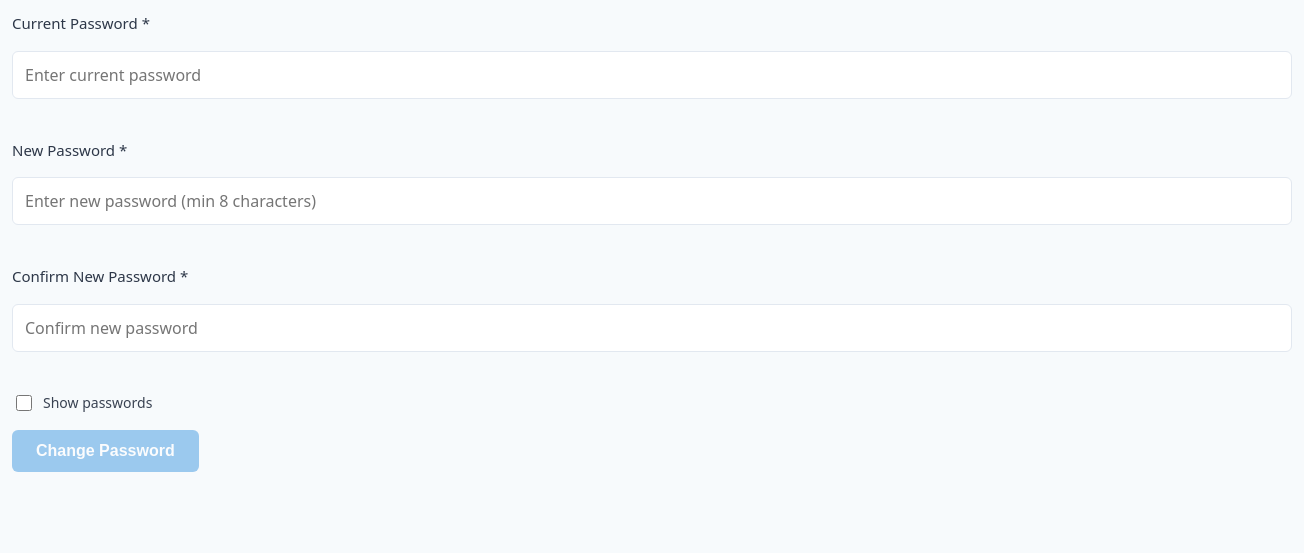
Test: PasswordChangeForm Component › should show error when new password is same as old
Type "same123456" into the password field labelled "Current Password *". click: (652, 74)
box: [12, 50, 1292, 98]
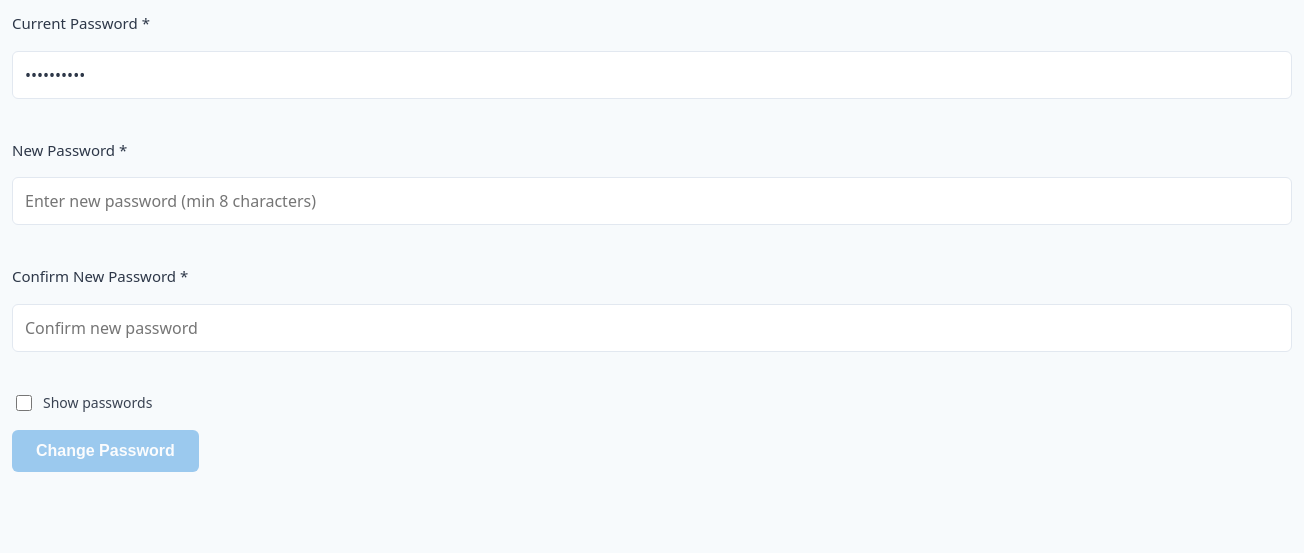
Type "same123456" into the password field labelled "New Password *". click: (652, 201)
box: [12, 177, 1292, 225]
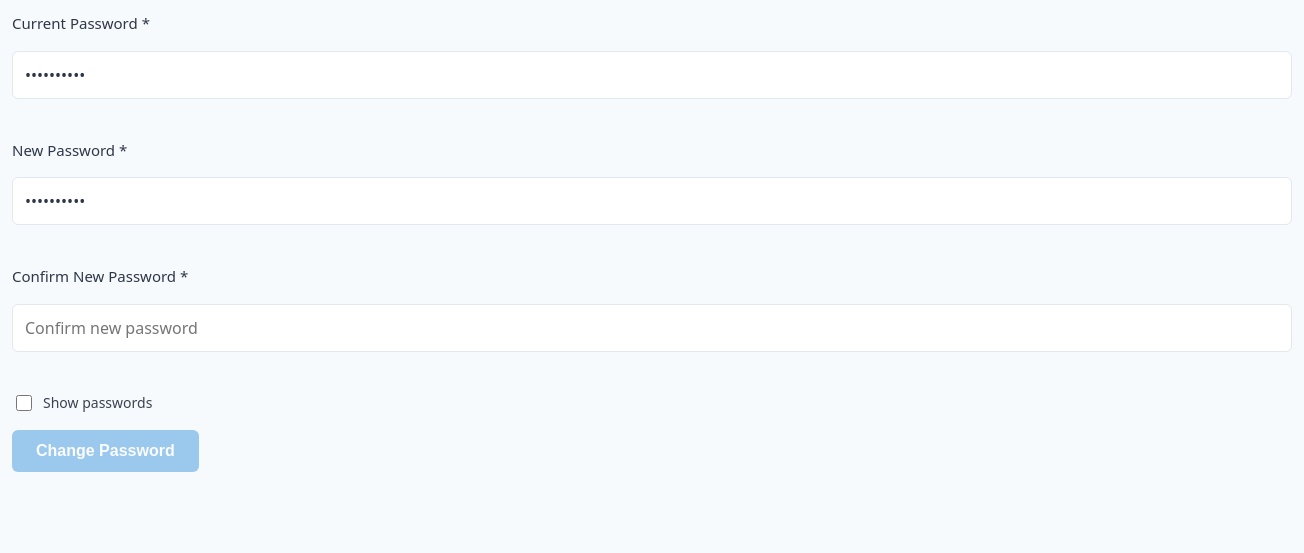
Type "same123456" into the password field labelled "Confirm New Password *". click: (652, 328)
box: [12, 304, 1292, 352]
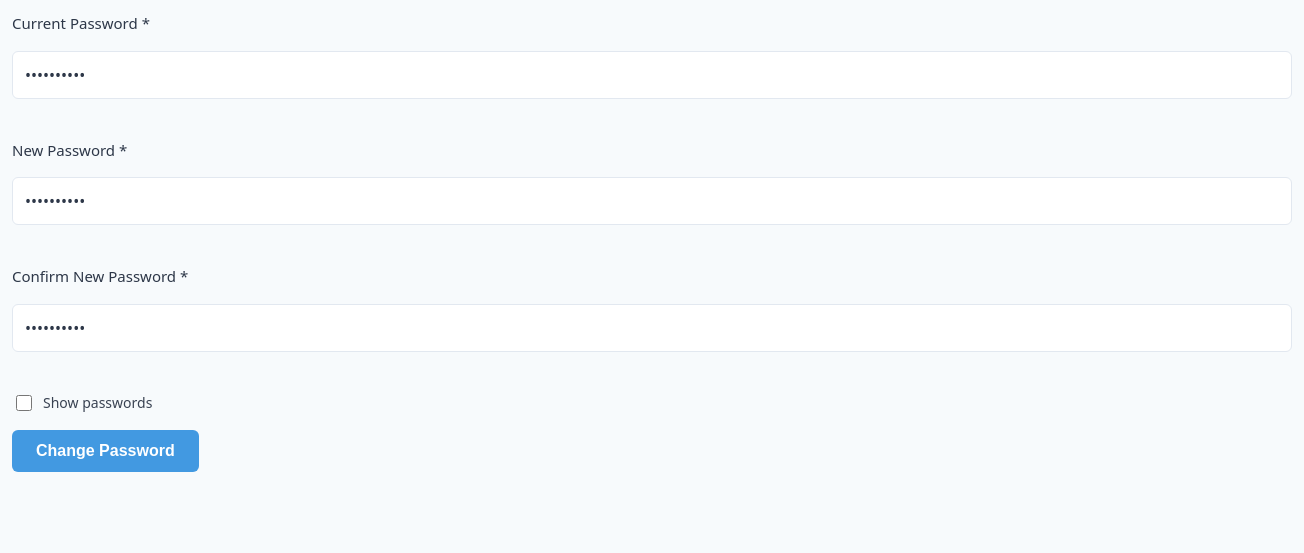
Click the button "Change Password". click: (105, 450)
box: [12, 430, 199, 472]
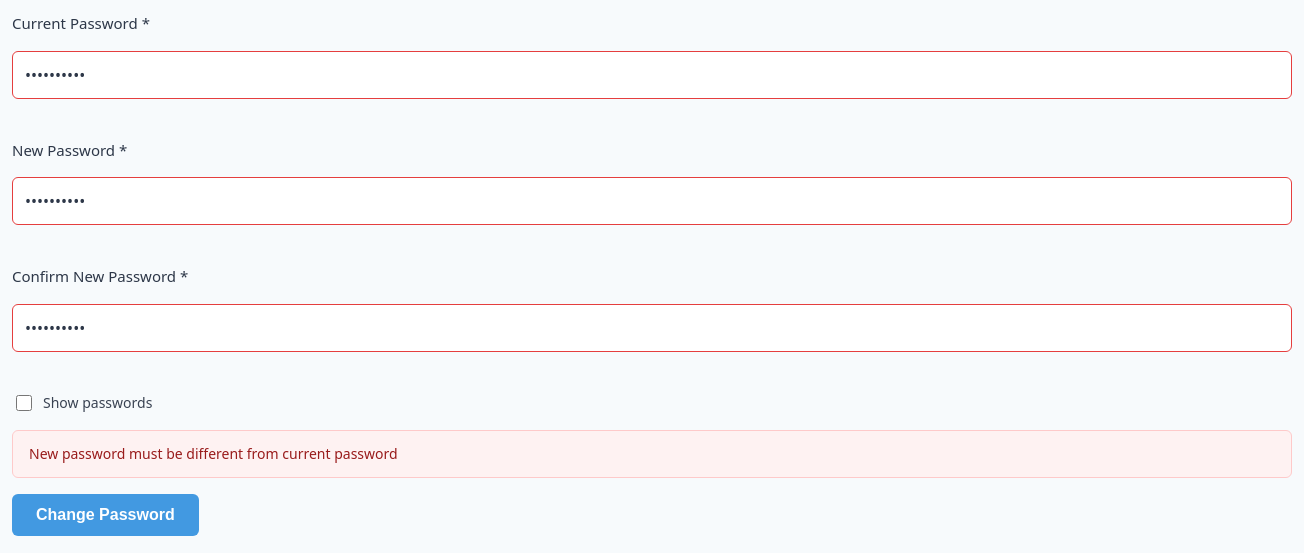
Result: the message reads "New password must be different from current password" at [29, 444, 398, 462]
